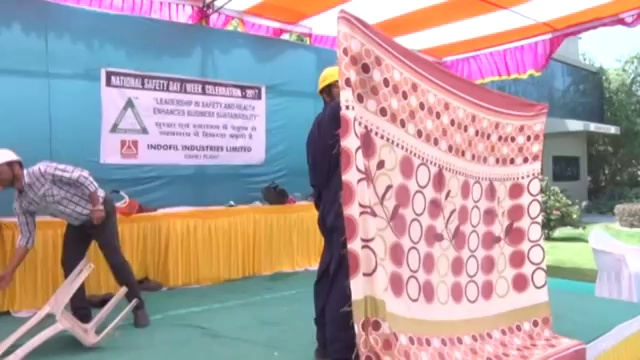helmet: (317, 63, 341, 94), (1, 145, 24, 167)
helmet_on: (316, 61, 341, 112), (1, 145, 27, 191)
person: (1, 145, 152, 330), (306, 61, 358, 360)
